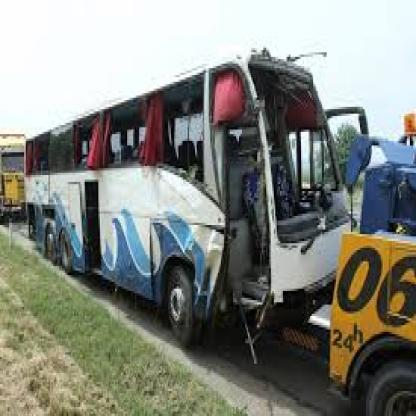accident: (13, 74, 358, 344)
